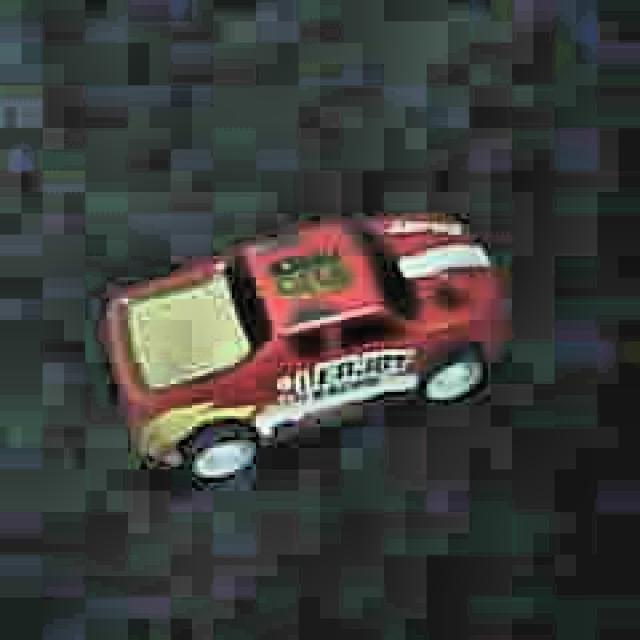car: (97, 206, 510, 486)
